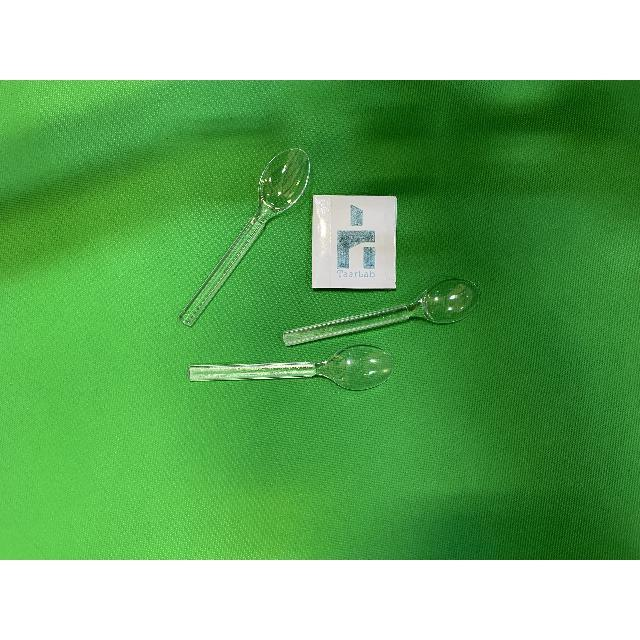Paquete de plastico: (311, 197, 398, 293)
Plastico descartable: (180, 151, 311, 330), (283, 280, 479, 349), (185, 348, 393, 395)
